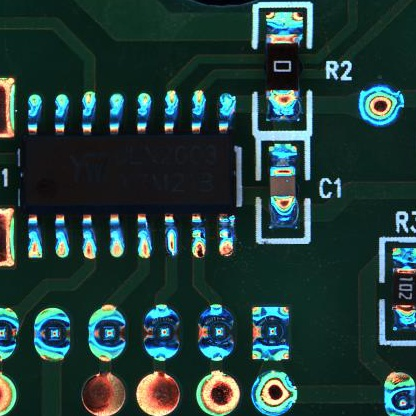spot: (249, 304, 292, 363), (88, 303, 129, 363), (32, 308, 75, 362), (198, 305, 235, 363), (144, 303, 179, 364), (358, 87, 407, 128), (251, 371, 297, 414), (384, 373, 416, 416), (1, 308, 20, 355)
